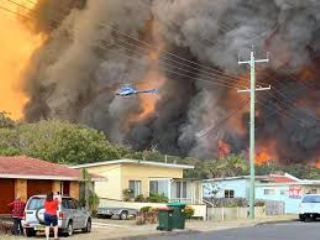smoke: (141, 11, 249, 159), (22, 9, 125, 131)
